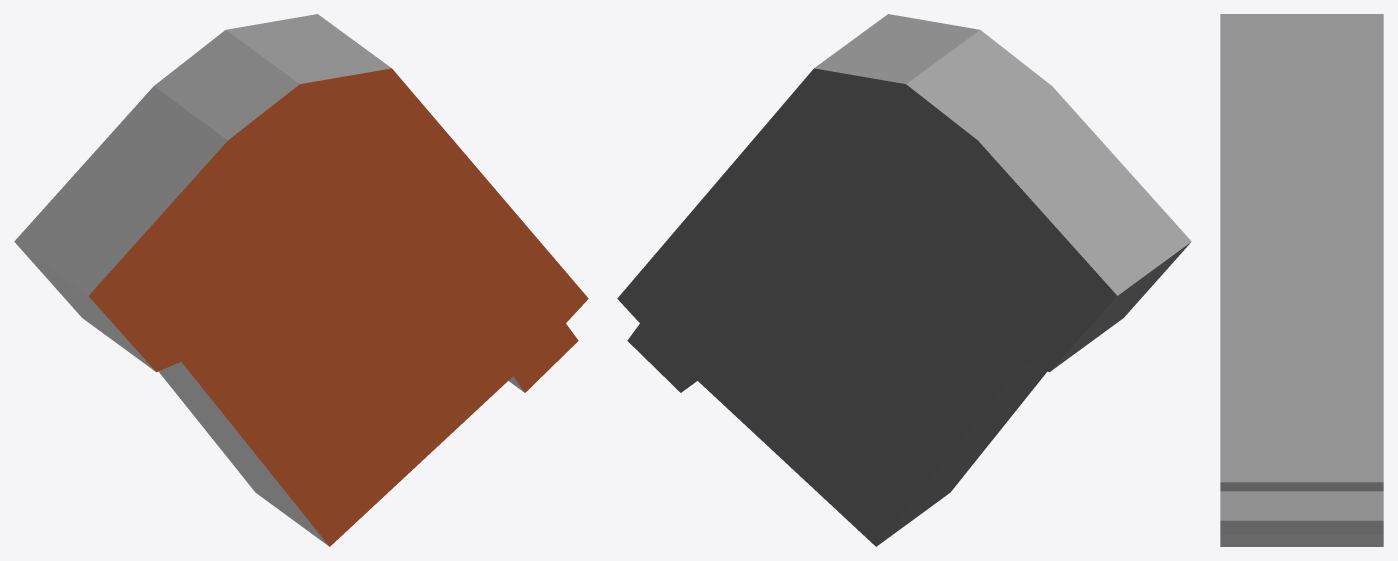
File: construction_1052_assumed_A_Casa_h6m.obj
The picture shows the model from 3 angles, left to right: view 1: azimuth 30°, elevation 25°; view 2: azimuth 150°, elevation 25°; view 3: azimuth 270°, elevation 25°; orthographic projection. The views are drawn at different scales.
Visible parts, largest first — view 1: construction_1052_assumed_A_Casa; view 2: construction_1052_assumed_A_Casa; view 3: construction_1052_assumed_A_Casa.
Part boxes in pixels (left/top/right/bottom): construction_1052_assumed_A_Casa: left=14, top=14, right=588, bottom=546; construction_1052_assumed_A_Casa: left=617, top=14, right=1191, bottom=546; construction_1052_assumed_A_Casa: left=1220, top=14, right=1383, bottom=546.
Size of the model in its own units: 23.33 by 20.95 by 6.
